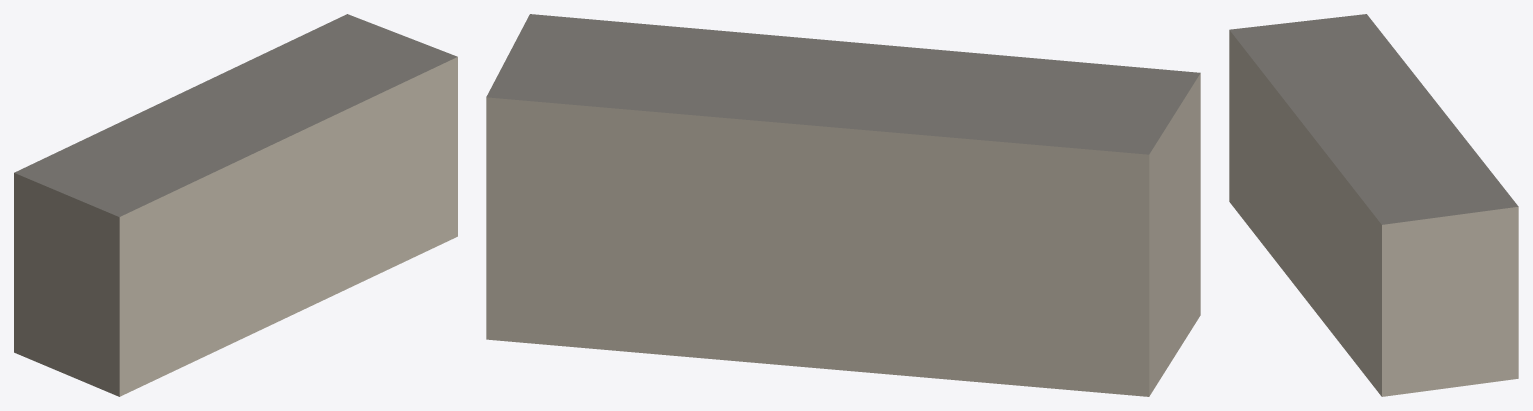
3 renders of one model, left to right at view 1: azimuth 30°, elevation 25°; view 2: azimuth 150°, elevation 25°; view 3: azimuth 270°, elevation 25°, orthographic. The views are drawn at different scales.
Parts seen in each view (by area): view 1: HP-w505661356; view 2: HP-w505661356; view 3: HP-w505661356.
Part boxes in pixels (left/top/right/bottom): HP-w505661356: left=14, top=14, right=457, bottom=396; HP-w505661356: left=486, top=14, right=1200, bottom=396; HP-w505661356: left=1229, top=14, right=1518, bottom=396.
Size of the model in its own units: 31.55 by 12 by 18.29.
